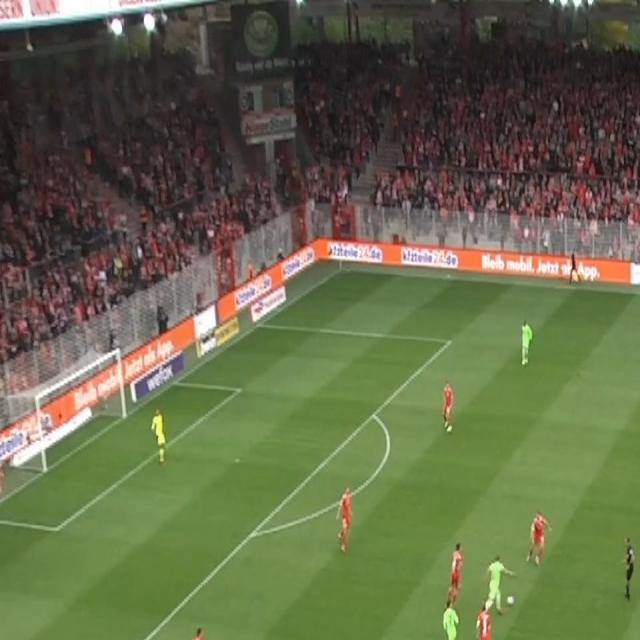ball: (506, 592, 514, 609)
